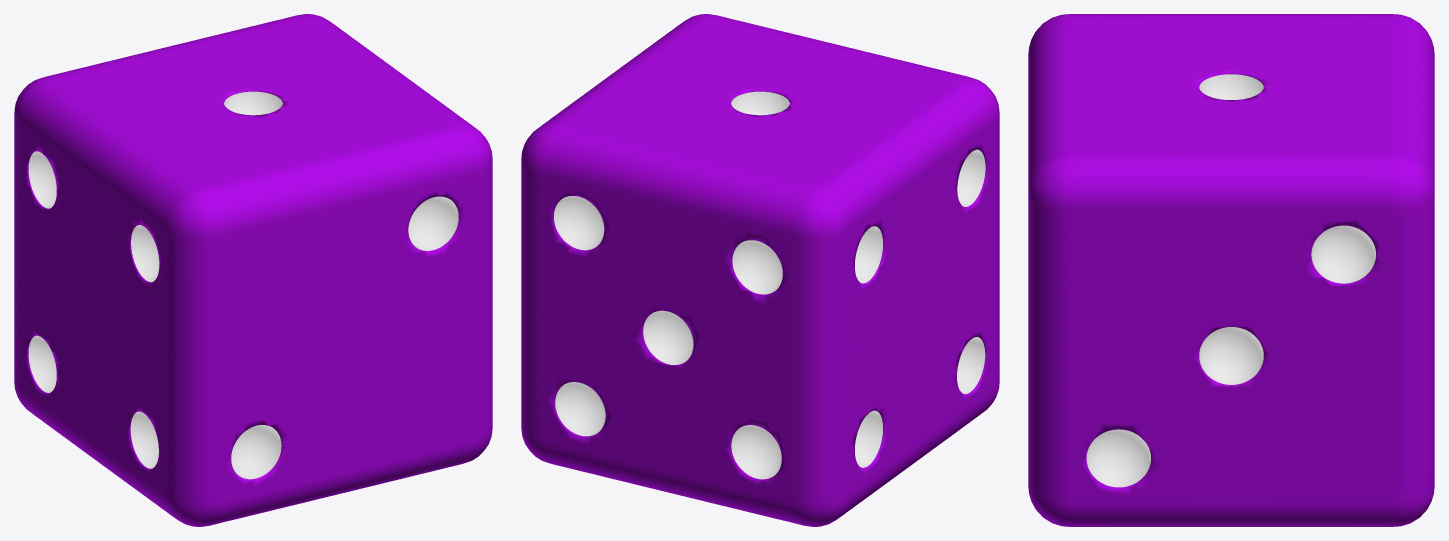
Rendered from dice.glb.
The picture shows the model from 3 angles, left to right: view 1: azimuth 30°, elevation 25°; view 2: azimuth 150°, elevation 25°; view 3: azimuth 270°, elevation 25°; orthographic projection. The views are drawn at different scales.
Visible parts, largest first — view 1: Icosphere; view 2: Icosphere; view 3: Icosphere.
Boxes of the visible parts, left/top/right/bottom form: Icosphere: left=14, top=14, right=492, bottom=526; Icosphere: left=521, top=14, right=999, bottom=526; Icosphere: left=1028, top=14, right=1434, bottom=526.
Bounding box in the file's own units: 2.5 × 2.5 × 2.5.
